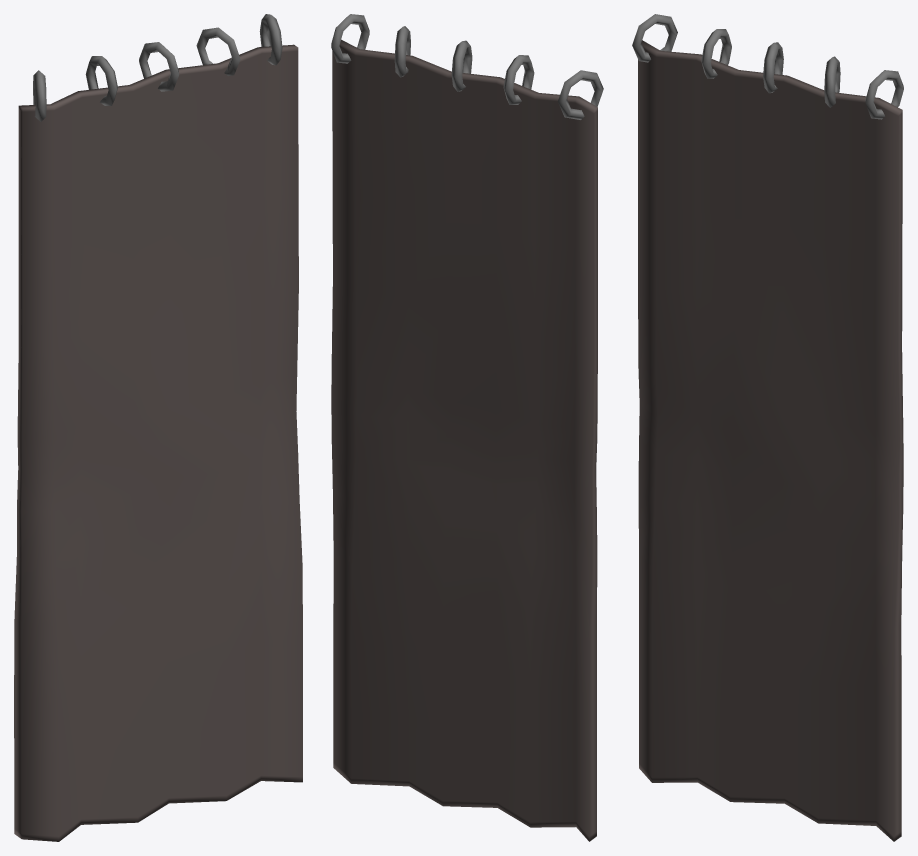
File: curtain_026.fbx
3 renders of one model, left to right at view 1: azimuth 30°, elevation 25°; view 2: azimuth 150°, elevation 25°; view 3: azimuth 330°, elevation 25°, orthographic.
Visible parts, largest first — view 1: curtain_026; view 2: curtain_026; view 3: curtain_026.
Part boxes in pixels (x1,y1,x2,y2): curtain_026: [14, 14, 302, 841]; curtain_026: [331, 14, 603, 841]; curtain_026: [632, 14, 903, 841].
Size of the model in its own units: 128 by 22.83 by 348.
